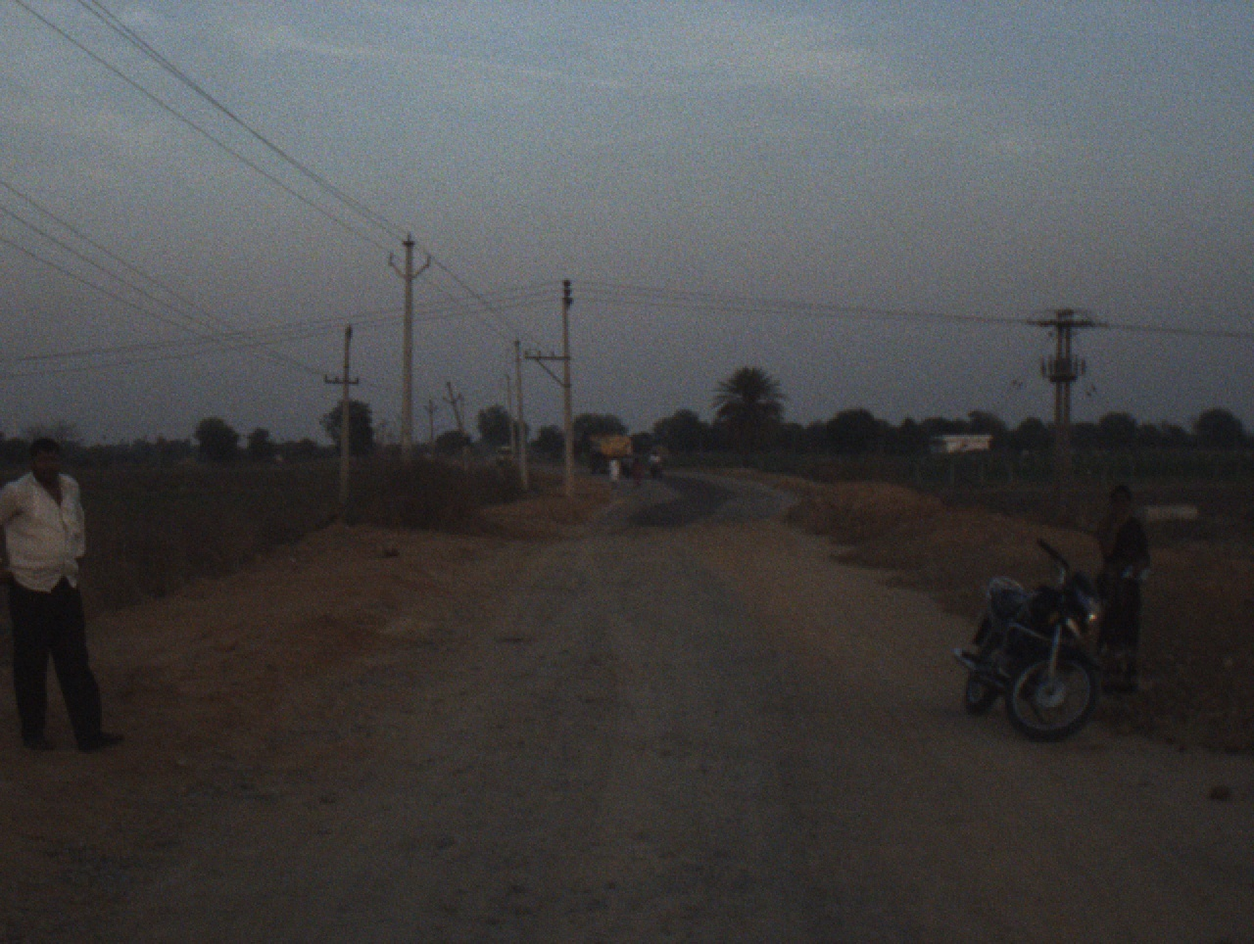car: (496, 436, 513, 459)
motorcycle: (949, 529, 1105, 738), (654, 457, 662, 477)
person: (2, 430, 120, 760), (1084, 481, 1154, 697), (604, 452, 621, 492), (633, 452, 646, 494)
rider: (651, 444, 663, 465)
truck: (581, 429, 635, 474)
